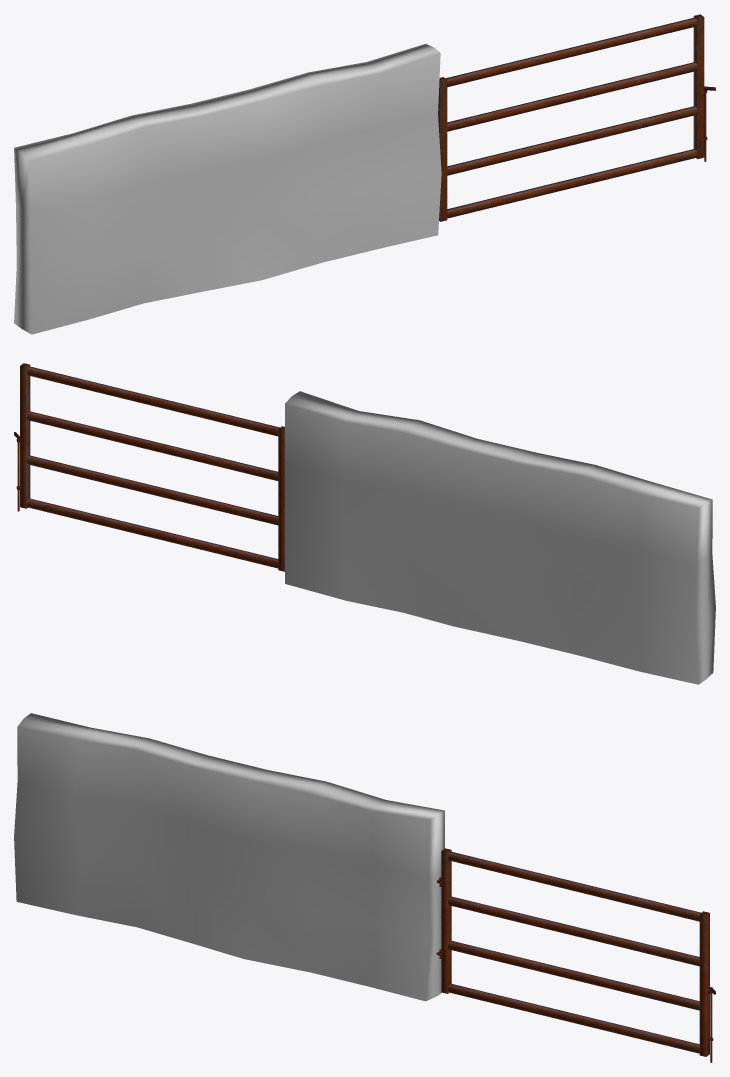
The model's file is farm_type_wall.obj.
The picture shows the model from 3 angles, top to bottom: view 1: azimuth 30°, elevation 25°; view 2: azimuth 150°, elevation 25°; view 3: azimuth 330°, elevation 25°; orthographic projection.
Parts seen in each view (by area): view 1: main_wall, gate gate_frame1; view 2: main_wall, gate gate_frame1; view 3: main_wall, gate gate_frame1.
Part boxes in pixels (x1,y1,x2,y2): main_wall: (14, 43, 441, 334); gate gate_frame1: (438, 14, 704, 221); main_wall: (285, 391, 715, 684); gate gate_frame1: (20, 363, 284, 571); main_wall: (14, 713, 444, 1001); gate gate_frame1: (441, 848, 709, 1056).
Size of the model in its own units: 669 by 167 by 33.4.
